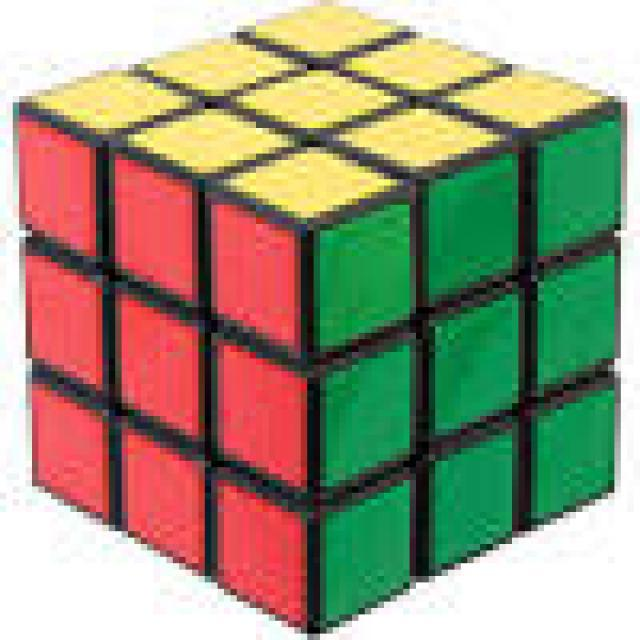Rub: (19, 5, 634, 627)
